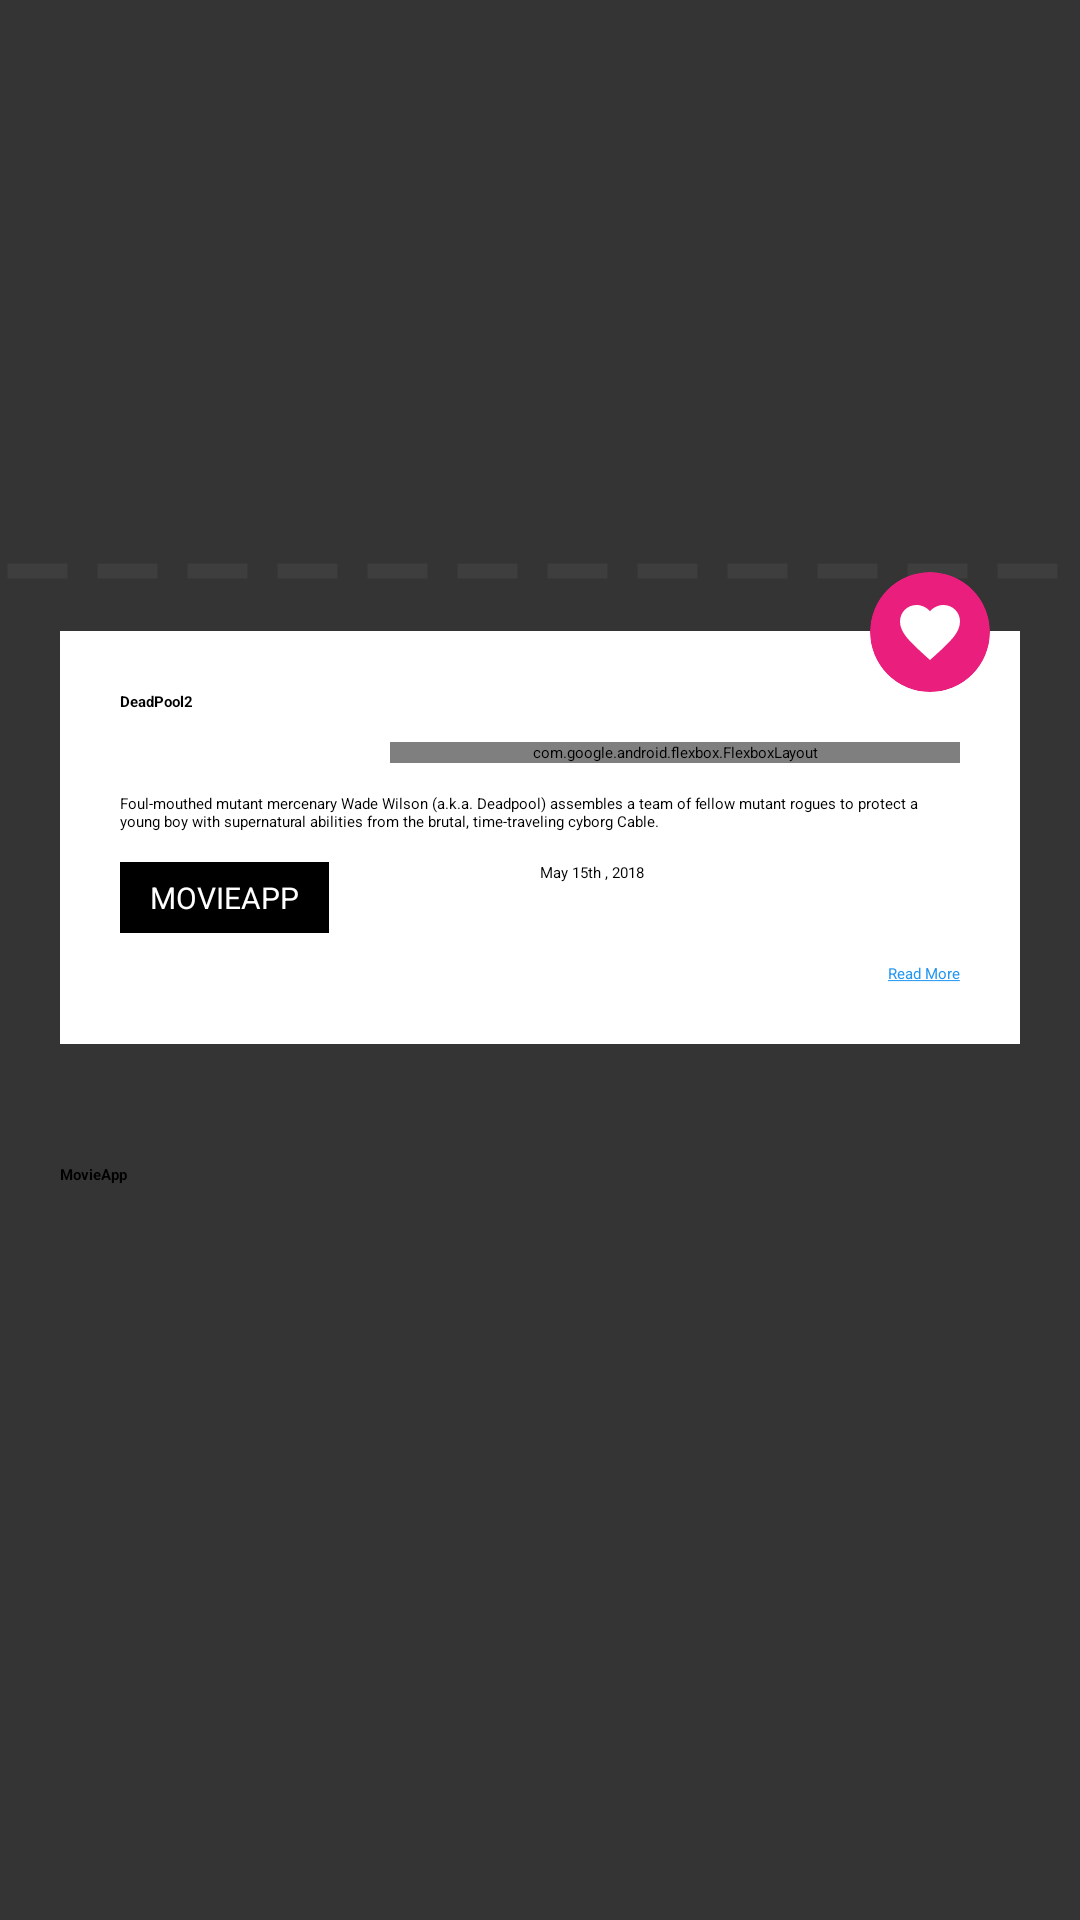

Icon click points for this 1080w x 1920h phone screenshot, format (x=x, y=y):
Favourite: (x=930, y=632)
